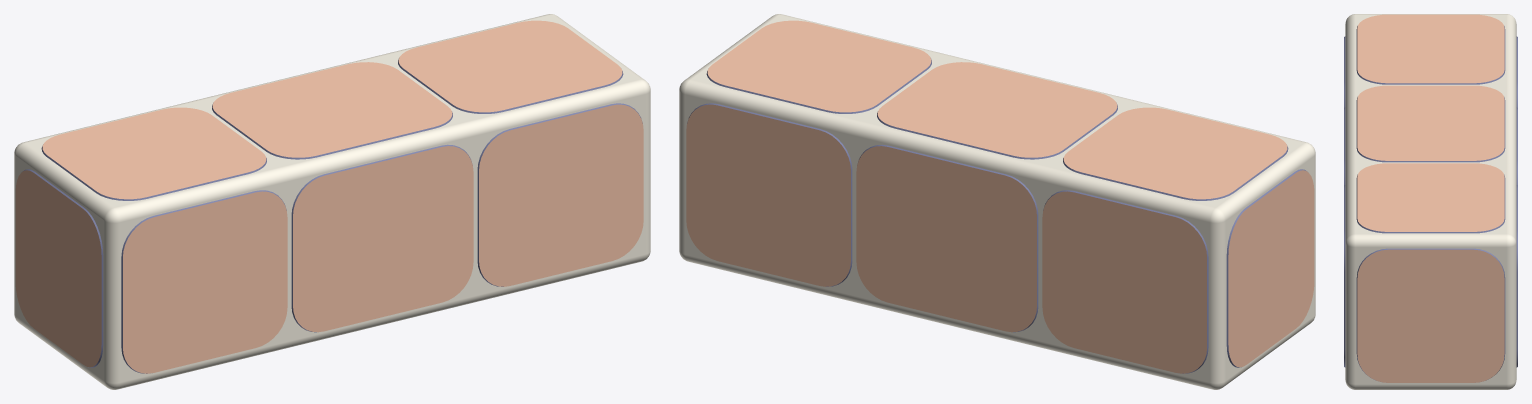
The model's file is R4B_Beam3.fbx.
3 renders of one model, left to right at view 1: azimuth 30°, elevation 25°; view 2: azimuth 150°, elevation 25°; view 3: azimuth 270°, elevation 25°, orthographic. The views are drawn at different scales.
Visible parts, largest first — view 1: R4B_Beam3; view 2: R4B_Beam3; view 3: R4B_Beam3.
Part boxes in pixels (<box>): R4B_Beam3: <box>14,14,650,389</box>; R4B_Beam3: <box>679,14,1315,389</box>; R4B_Beam3: <box>1344,14,1517,389</box>.
Bounding box in the file's own units: 1.62 × 0.52 × 0.52.
